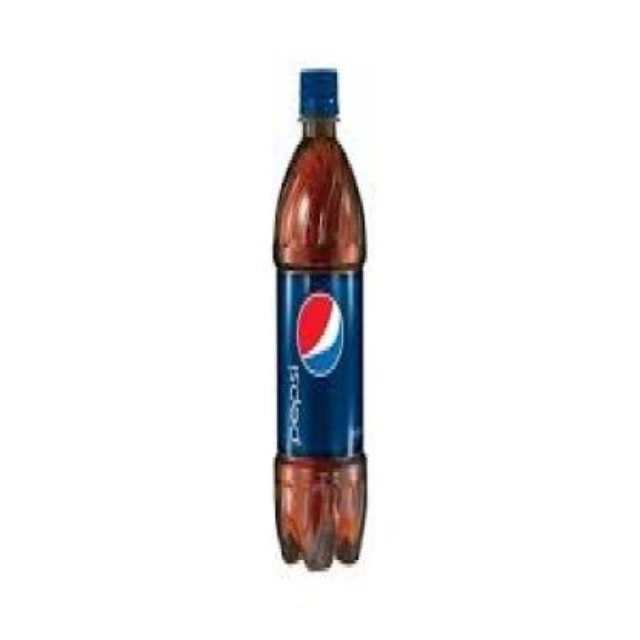trash: (274, 69, 365, 569)
